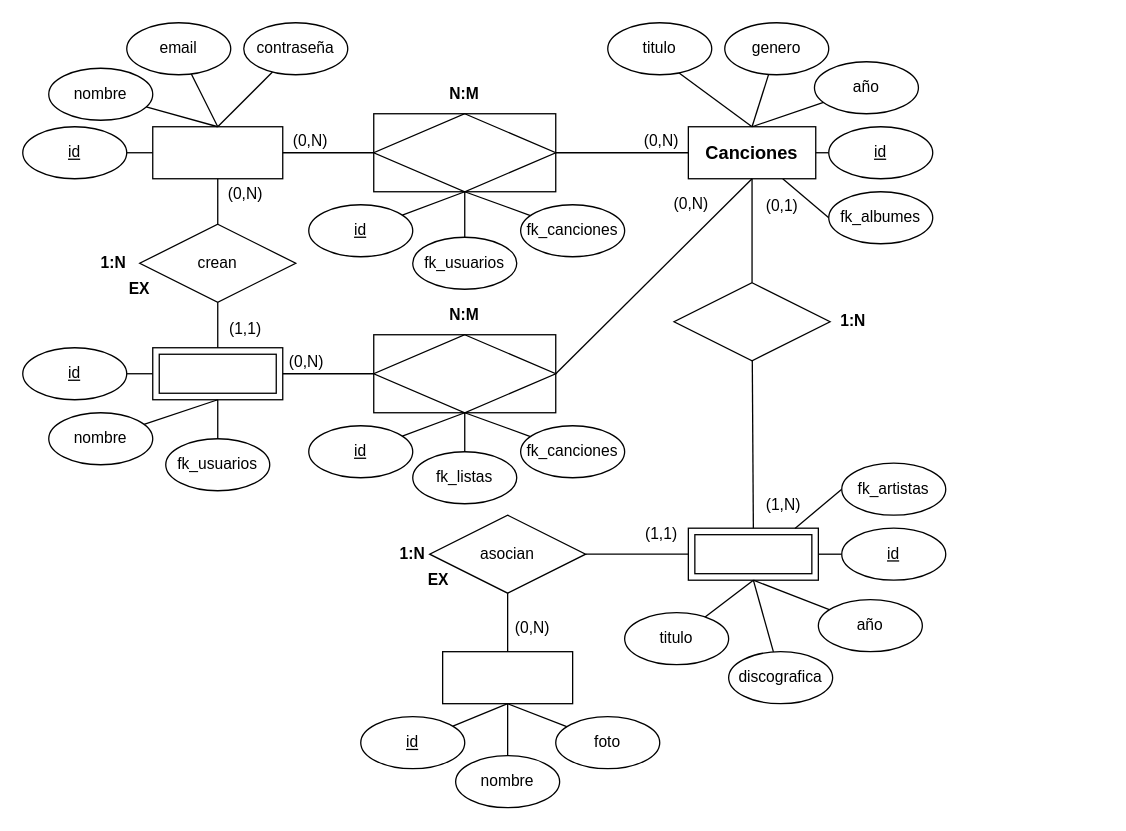
Some shapes in this 1126 by 831 pixel diagram are drawn without their labels. The shapes that lost their labels are listed below. From the top down, each one's centre as x and y in pixels, then its label:
At (x=217, y=152): "Usuarios".
At (x=464, y=152): "Escuchan".
At (x=751, y=321): "agrupan".
At (x=217, y=373): "Listas".
At (x=464, y=373): "Favoritas".
At (x=752, y=553): "Albumes".
At (x=507, y=677): "Artistas".
